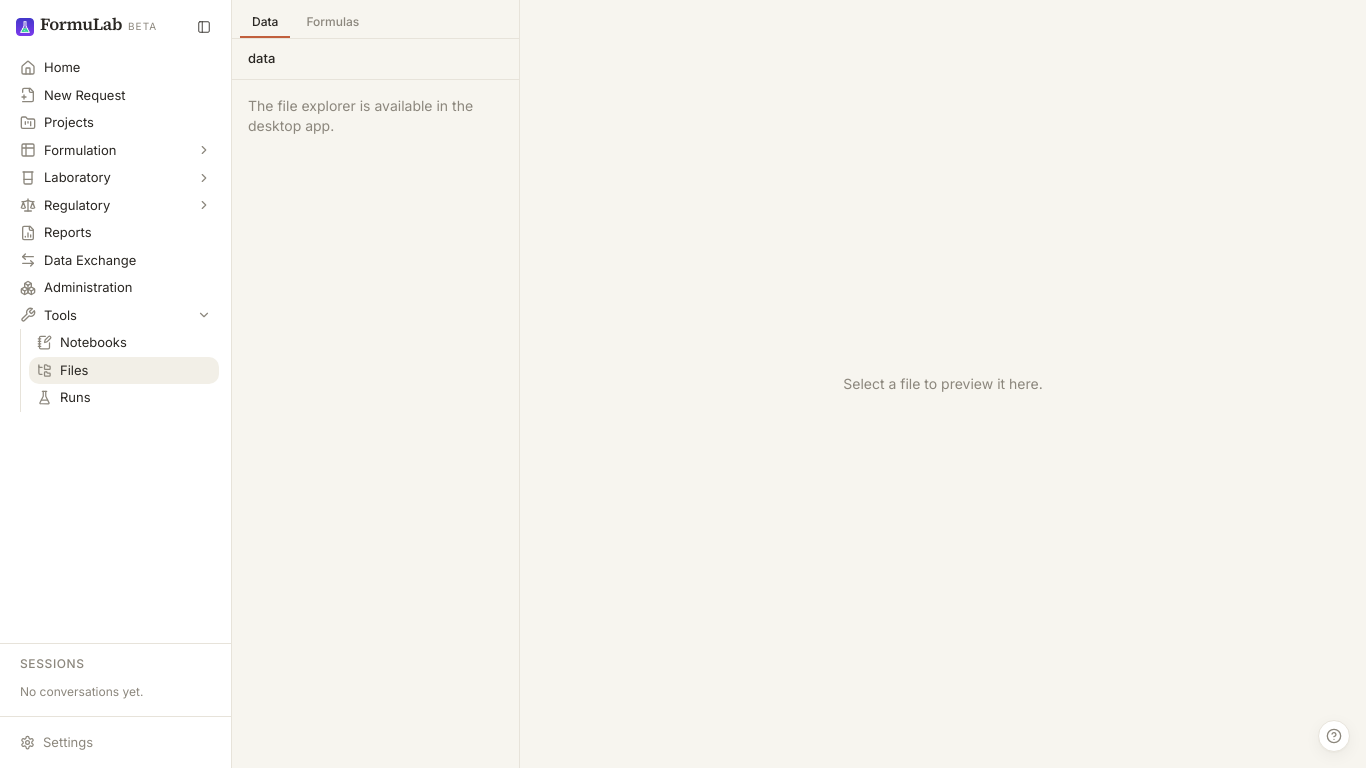
Test case: Sidebar — accordion behavior › opening one group closes the previously open one (prefers a single expanded group)
This screenshot has width=1366, height=768.
Click the button "Formulation" at (116, 150), box [12,136,219,164]
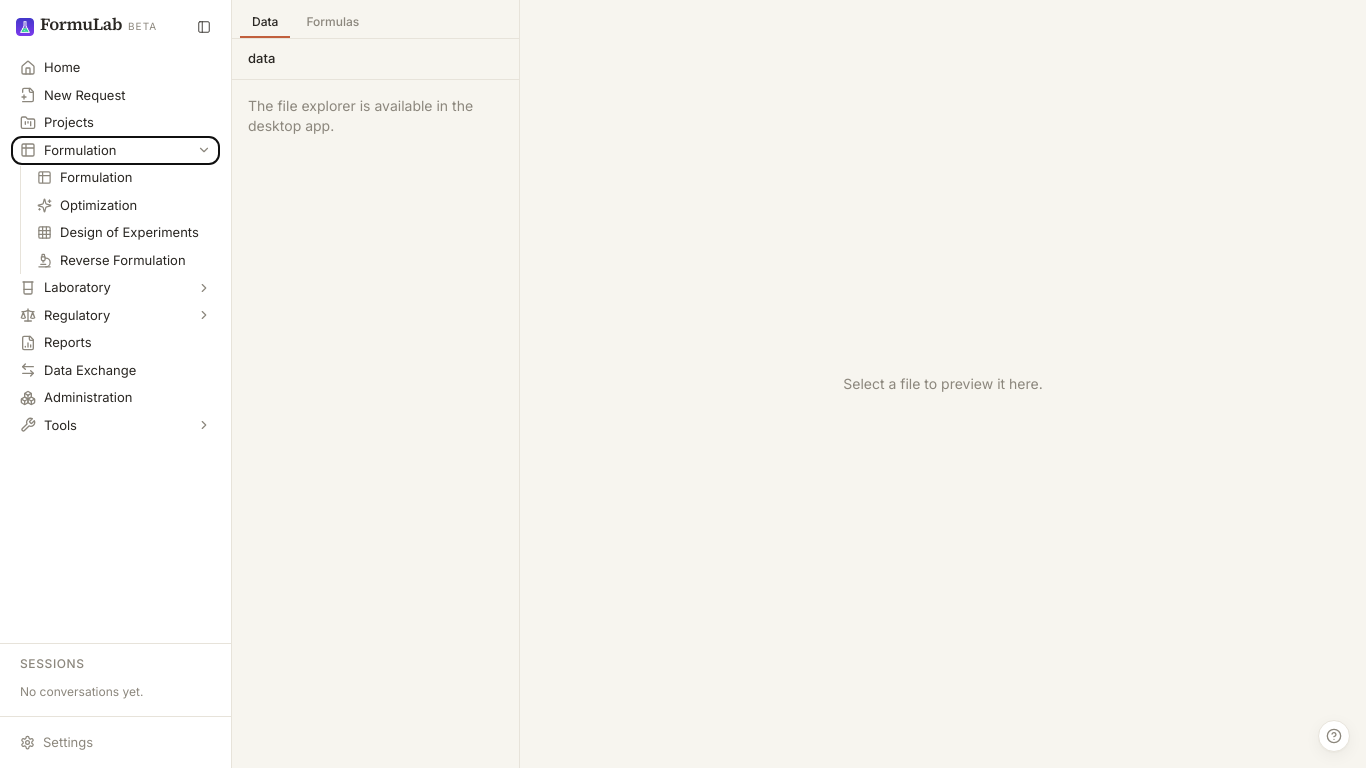
Check: the button "Formulation" is expanded, box [12,136,219,164]
Check: the link "Optimization" is shown, box [37,196,137,213]
Click the button "Laboratory" at (116, 288), box [12,274,219,302]
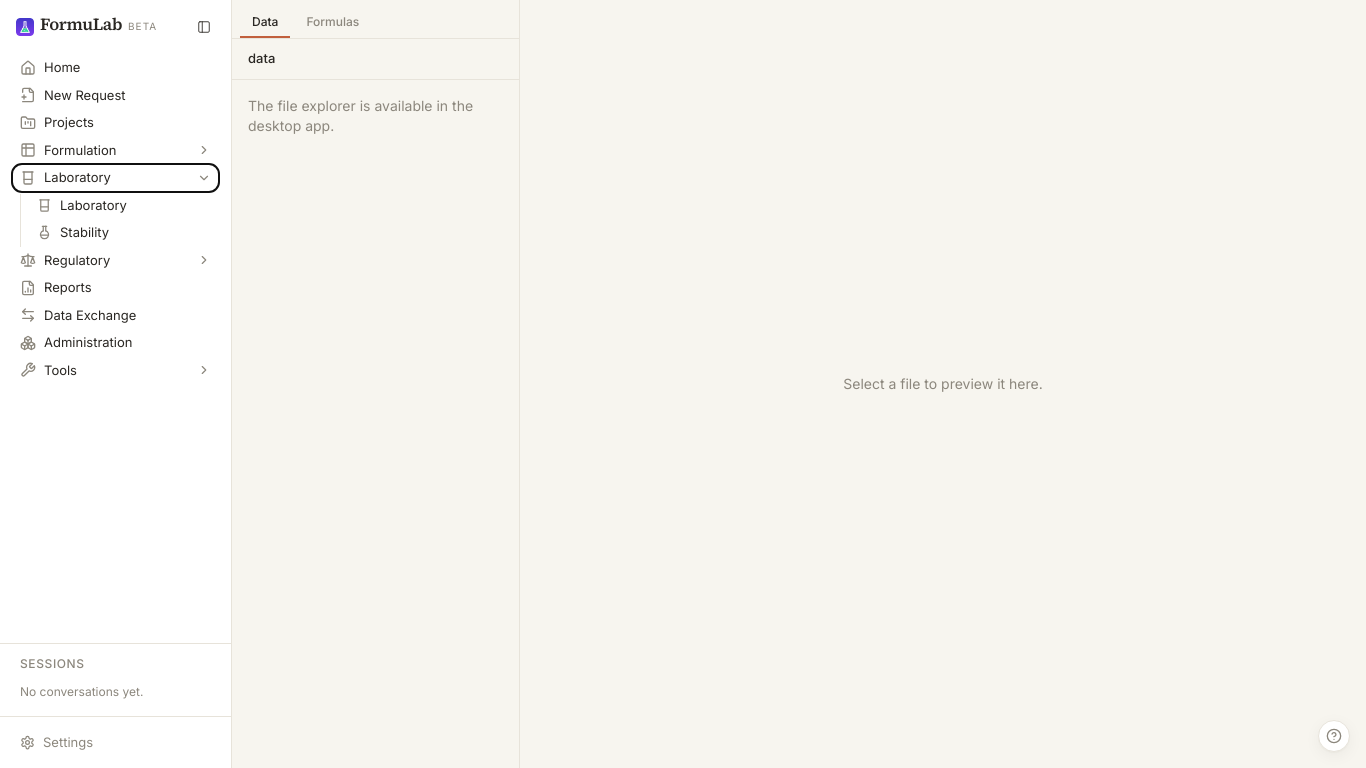
Check: the button "Laboratory" is expanded, box [12,164,219,192]
Check: the button "Formulation" is collapsed, box [12,136,219,164]
Check: the link "Optimization" is gone
